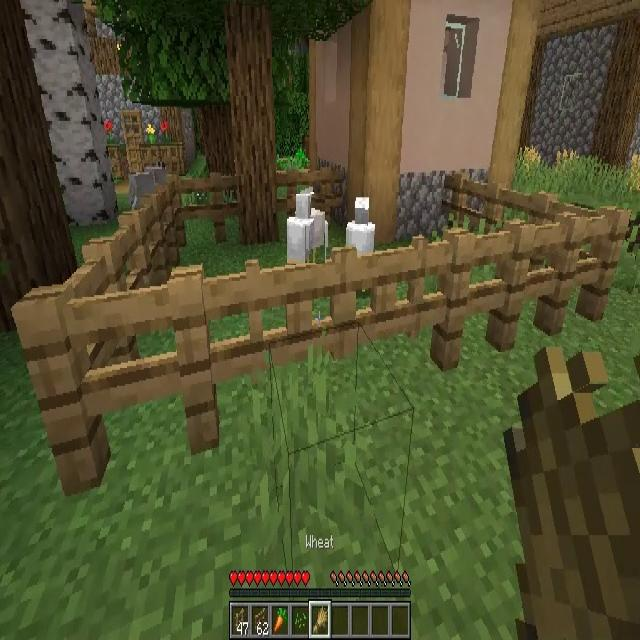duck: (287, 194, 325, 264), (346, 197, 376, 254)
sheep: (127, 168, 168, 212)
